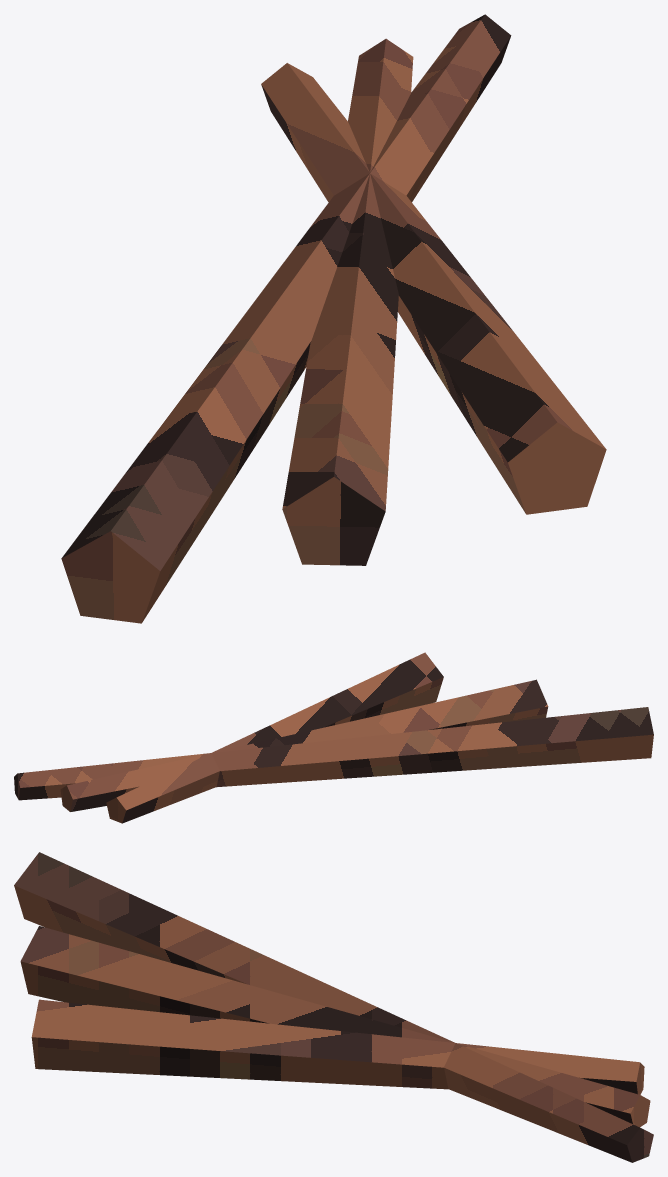
The model's file is enfeite_raiz_chao.fbx.
3 renders of one model, top to bottom at view 1: azimuth 30°, elevation 25°; view 2: azimuth 150°, elevation 25°; view 3: azimuth 270°, elevation 25°, orthographic. The views are drawn at different scales.
Visible parts, largest first — view 1: bosque_enfeite_raiz_chao; view 2: bosque_enfeite_raiz_chao; view 3: bosque_enfeite_raiz_chao.
Part boxes in pixels (x1=…): bosque_enfeite_raiz_chao: x1=61, y1=14, x2=606, y2=623; bosque_enfeite_raiz_chao: x1=14, y1=652, x2=653, y2=823; bosque_enfeite_raiz_chao: x1=14, y1=852, x2=653, y2=1162.
Bounding box in the file's own units: 34.89 × 3.44 × 33.01.
1 material, 1 textured.
